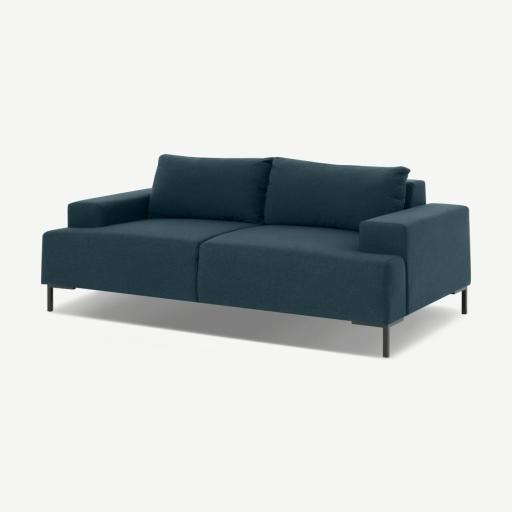back_cushion: (149, 155, 409, 230)
left_arm: (360, 203, 470, 314)
legs: (352, 318, 403, 357), (47, 285, 75, 311), (462, 289, 467, 314)
right_arm: (68, 189, 150, 227)
seat_cushion: (42, 219, 407, 325)
two-seater: (0, 0, 511, 512)
